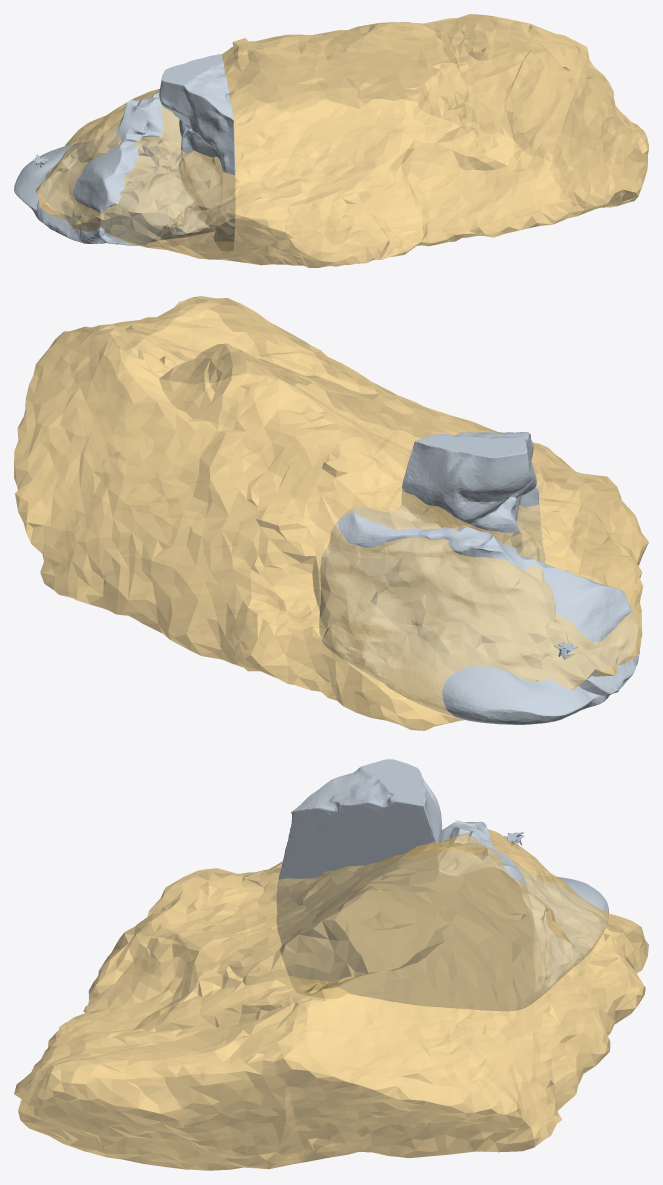
The model's file is stress_v8-T2-A2.glb.
The picture shows the model from 3 angles, top to bottom: view 1: azimuth 30°, elevation 25°; view 2: azimuth 150°, elevation 25°; view 3: azimuth 270°, elevation 25°; orthographic projection. The views are drawn at different scales.
Parts seen in each view (by area): view 1: truth, imagination; view 2: truth, imagination; view 3: truth, imagination.
Boxes of the visible parts, box(x1,y1,x2,y2) form: truth: box(36, 14, 648, 267); imagination: box(14, 54, 235, 250); truth: box(14, 296, 648, 730); imagination: box(319, 432, 642, 724); truth: box(14, 829, 648, 1170); imagination: box(276, 759, 608, 1010).
Size of the model in its own units: 1.29 by 0.4201 by 1.08.
